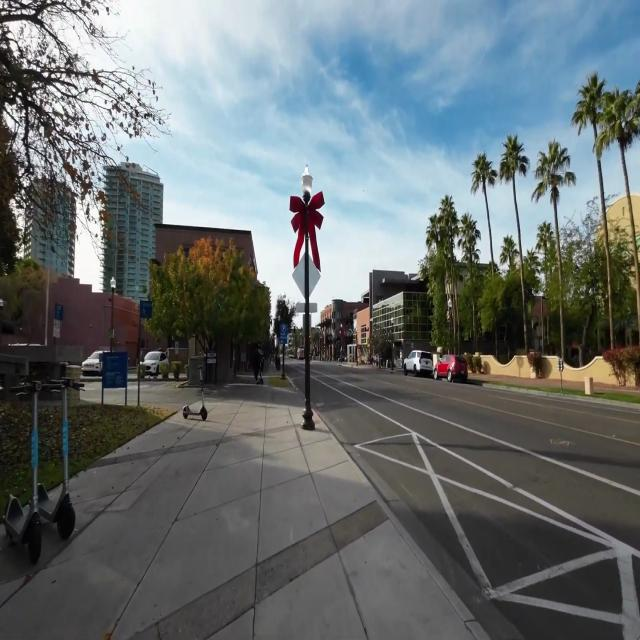road: (311, 367, 640, 627)
side walk: (0, 400, 491, 639)
street sign: (289, 171, 326, 409)
